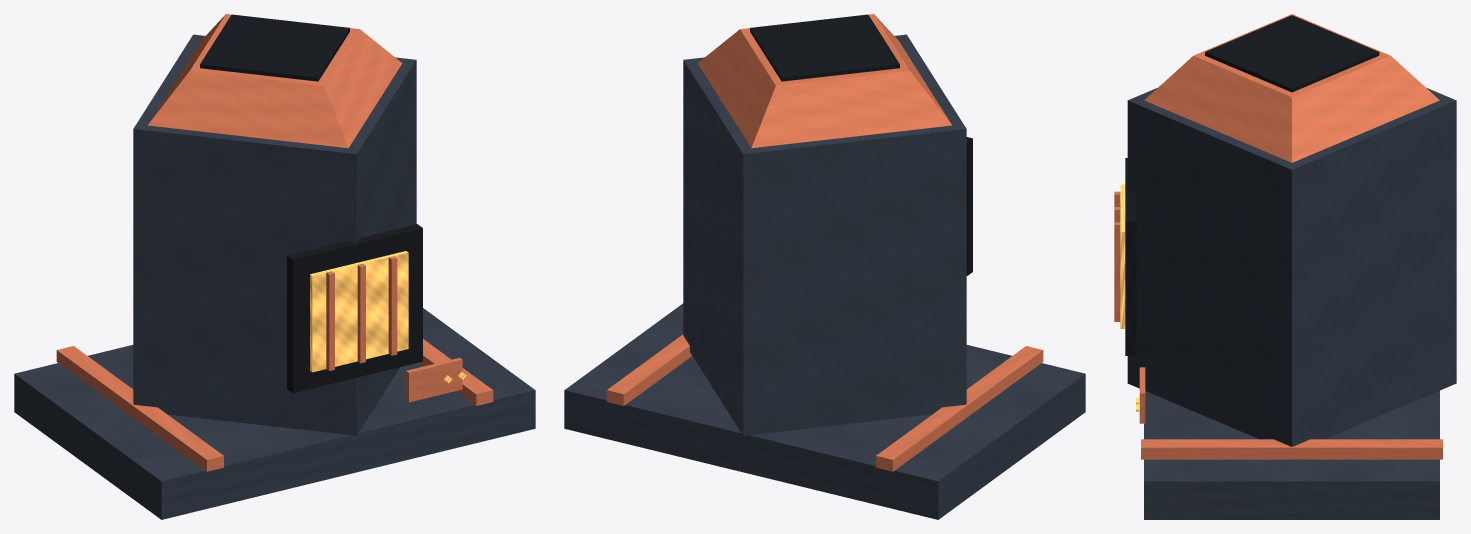
File: atlas100-s022-a01.lod1.glb
3 renders of one model, left to right at view 1: azimuth 30°, elevation 25°; view 2: azimuth 150°, elevation 25°; view 3: azimuth 270°, elevation 25°, orthographic.
Parts seen in each view (by area): view 1: atlas100-s022-a01:part-003, atlas100-s022-a01:part-000, atlas100-s022-a01:part-004, atlas100-s022-a01:part-006, atlas100-s022-a01:part-007, atlas100-s022-a01:part-005, atlas100-s022-a01:part-001, atlas100-s022-a01:part-011, atlas100-s022-a01:part-002, atlas100-s022-a01:part-010, atlas100-s022-a01:part-009, atlas100-s022-a01:part-008; view 2: atlas100-s022-a01:part-003, atlas100-s022-a01:part-000, atlas100-s022-a01:part-004, atlas100-s022-a01:part-005, atlas100-s022-a01:part-001, atlas100-s022-a01:part-002, atlas100-s022-a01:part-006; view 3: atlas100-s022-a01:part-003, atlas100-s022-a01:part-000, atlas100-s022-a01:part-004, atlas100-s022-a01:part-005, atlas100-s022-a01:part-002, atlas100-s022-a01:part-006, atlas100-s022-a01:part-007, atlas100-s022-a01:part-010, atlas100-s022-a01:part-011.
Boxes of the visible parts, x1,y1,x2,y2 form: atlas100-s022-a01:part-003: [133, 34, 416, 435]; atlas100-s022-a01:part-000: [14, 308, 535, 519]; atlas100-s022-a01:part-004: [147, 14, 402, 148]; atlas100-s022-a01:part-006: [287, 224, 422, 393]; atlas100-s022-a01:part-007: [310, 251, 408, 372]; atlas100-s022-a01:part-005: [200, 14, 349, 81]; atlas100-s022-a01:part-001: [56, 346, 223, 471]; atlas100-s022-a01:part-011: [406, 357, 462, 402]; atlas100-s022-a01:part-002: [417, 339, 493, 405]; atlas100-s022-a01:part-010: [388, 256, 397, 355]; atlas100-s022-a01:part-009: [357, 264, 365, 363]; atlas100-s022-a01:part-008: [326, 271, 334, 370]; atlas100-s022-a01:part-003: [683, 34, 966, 435]; atlas100-s022-a01:part-000: [564, 303, 1085, 519]; atlas100-s022-a01:part-004: [697, 14, 952, 148]; atlas100-s022-a01:part-005: [750, 14, 899, 81]; atlas100-s022-a01:part-001: [876, 346, 1043, 471]; atlas100-s022-a01:part-002: [606, 334, 692, 405]; atlas100-s022-a01:part-006: [966, 137, 972, 275]; atlas100-s022-a01:part-003: [1127, 87, 1456, 446]; atlas100-s022-a01:part-000: [1144, 390, 1439, 519]; atlas100-s022-a01:part-004: [1144, 14, 1439, 162]; atlas100-s022-a01:part-005: [1205, 15, 1379, 92]; atlas100-s022-a01:part-002: [1141, 439, 1442, 459]; atlas100-s022-a01:part-006: [1125, 158, 1136, 355]; atlas100-s022-a01:part-007: [1120, 184, 1125, 328]; atlas100-s022-a01:part-010: [1114, 222, 1120, 321]; atlas100-s022-a01:part-011: [1139, 367, 1145, 423].
Bounding box in the file's own units: 2.64 × 2.53 × 2.08.
Materials: 4 (4 with a texture image).
